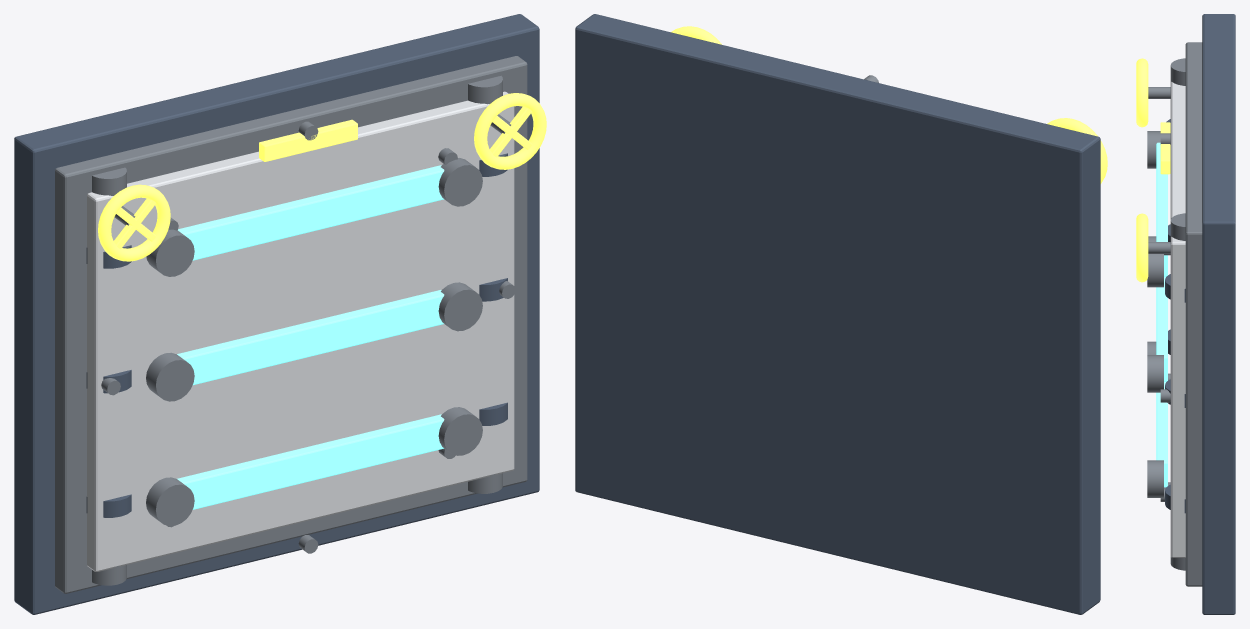
Rendered from blender_s4_conduit_bulkhead.glb.
3 views of the same model, side by side, from view 1: azimuth 30°, elevation 25°; view 2: azimuth 150°, elevation 25°; view 3: azimuth 270°, elevation 25° (orthographic). The views are drawn at different scales.
Visible parts, largest first — view 1: Bulkhead_FacePlate, Bulkhead_BackPlate, Bulkhead_Bezel, Bulkhead_Conduit_0, Bulkhead_Conduit_1, Bulkhead_Conduit_2, Bulkhead_ValveWheel_1, Bulkhead_ValveWheel_-1, Bulkhead_Interlock, Bulkhead_Collar_1_-1, Bulkhead_Collar_0_-1, Bulkhead_Collar_1_1 (+5 smaller); view 2: Bulkhead_BackPlate; view 3: Bulkhead_BackPlate, Bulkhead_Bezel, Bulkhead_FacePlate, Bulkhead_Conduit_2, Bulkhead_Conduit_1, Bulkhead_Conduit_0, Bulkhead_ValveWheel_1, Bulkhead_ValveWheel_-1, Bulkhead_Collar_0_1, Bulkhead_Collar_1_1, Bulkhead_Manifold_1, Bulkhead_Collar_2_1 (+7 smaller).
Boxes of the visible parts, left/top/right/bottom form: Bulkhead_FacePlate: left=87, top=91, right=514, bottom=571; Bulkhead_BackPlate: left=14, top=14, right=539, bottom=614; Bulkhead_Bezel: left=55, top=56, right=527, bottom=593; Bulkhead_Conduit_0: left=177, top=414, right=444, bottom=509; Bulkhead_Conduit_1: left=177, top=290, right=444, bottom=385; Bulkhead_Conduit_2: left=178, top=165, right=444, bottom=260; Bulkhead_ValveWheel_1: left=474, top=93, right=546, bottom=169; Bulkhead_ValveWheel_-1: left=98, top=184, right=170, bottom=261; Bulkhead_Interlock: left=259, top=119, right=357, bottom=161; Bulkhead_Collar_1_-1: left=146, top=352, right=194, bottom=401; Bulkhead_Collar_0_-1: left=146, top=477, right=194, bottom=526; Bulkhead_Collar_1_1: left=438, top=282, right=482, bottom=331; Bulkhead_BackPlate: left=575, top=14, right=1100, bottom=614; Bulkhead_BackPlate: left=1202, top=14, right=1235, bottom=614; Bulkhead_Bezel: left=1185, top=42, right=1202, bottom=586; Bulkhead_FacePlate: left=1170, top=81, right=1185, bottom=557; Bulkhead_Conduit_2: left=1156, top=142, right=1167, bottom=276; Bulkhead_Conduit_1: left=1156, top=276, right=1167, bottom=381; Bulkhead_Conduit_0: left=1156, top=382, right=1167, bottom=487; Bulkhead_ValveWheel_1: left=1136, top=213, right=1148, bottom=282; Bulkhead_ValveWheel_-1: left=1136, top=58, right=1148, bottom=127; Bulkhead_Collar_0_1: left=1147, top=460, right=1163, bottom=497; Bulkhead_Collar_1_1: left=1147, top=355, right=1163, bottom=392; Bulkhead_Manifold_1: left=1170, top=213, right=1185, bottom=570; Bulkhead_Collar_2_1: left=1147, top=254, right=1163, bottom=287.
Bounding box in the file's own units: 1.62 × 1.42 × 0.326.
